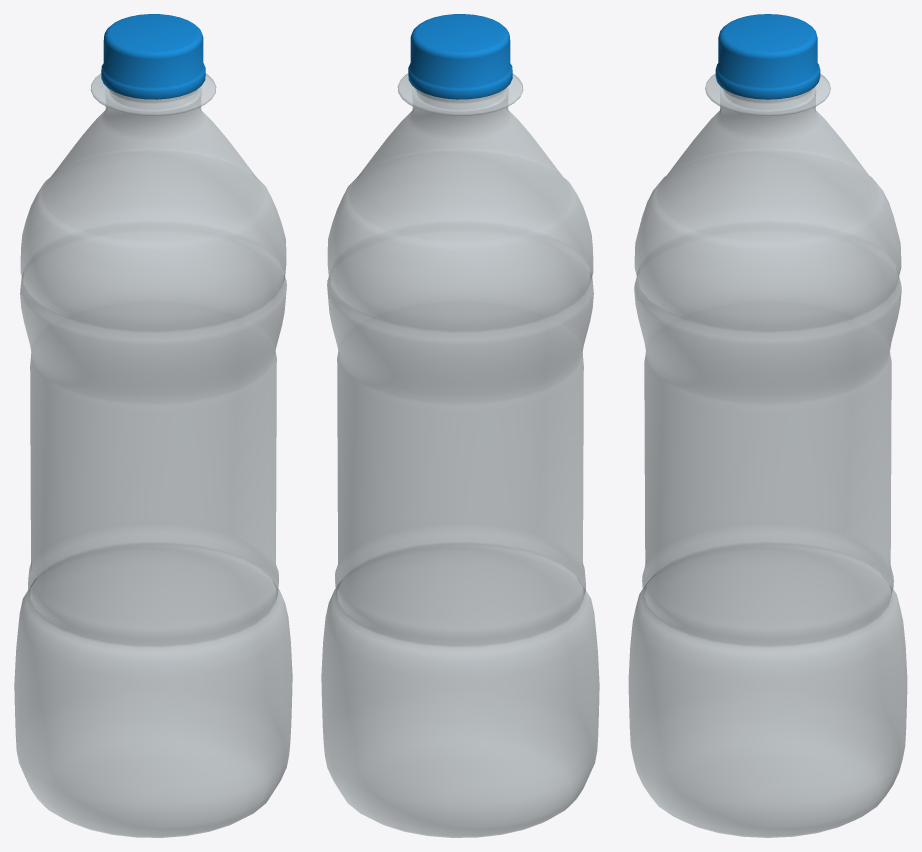
File: water_bottles.glb
3 renders of one model, left to right at view 1: azimuth 30°, elevation 25°; view 2: azimuth 150°, elevation 25°; view 3: azimuth 270°, elevation 25°, orthographic.
Parts seen in each view (by area): view 1: SM_Water_bottle_1, SM_Water_bottle_1_cap; view 2: SM_Water_bottle_1, SM_Water_bottle_1_cap; view 3: SM_Water_bottle_1, SM_Water_bottle_1_cap.
Part boxes in pixels (x1,y1,x2,y2): SM_Water_bottle_1: (14,73,292,837); SM_Water_bottle_1_cap: (101,14,205,99); SM_Water_bottle_1: (321,73,599,837); SM_Water_bottle_1_cap: (408,14,512,99); SM_Water_bottle_1: (628,73,907,837); SM_Water_bottle_1_cap: (715,14,820,99).
Size of the model in its own units: 10.38 by 31.58 by 10.38.
1 material, 1 textured.
